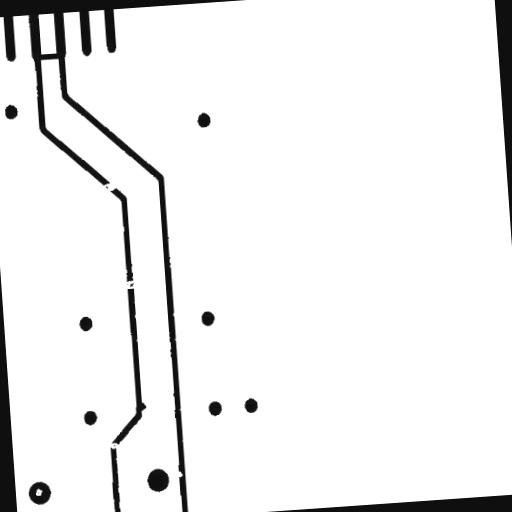mousebite: (166, 462, 190, 486)
open: (92, 173, 126, 199), (110, 272, 144, 298), (101, 434, 128, 457)
pin-hole: (28, 480, 50, 504)
short: (26, 45, 70, 69)
spur: (130, 394, 154, 419)
